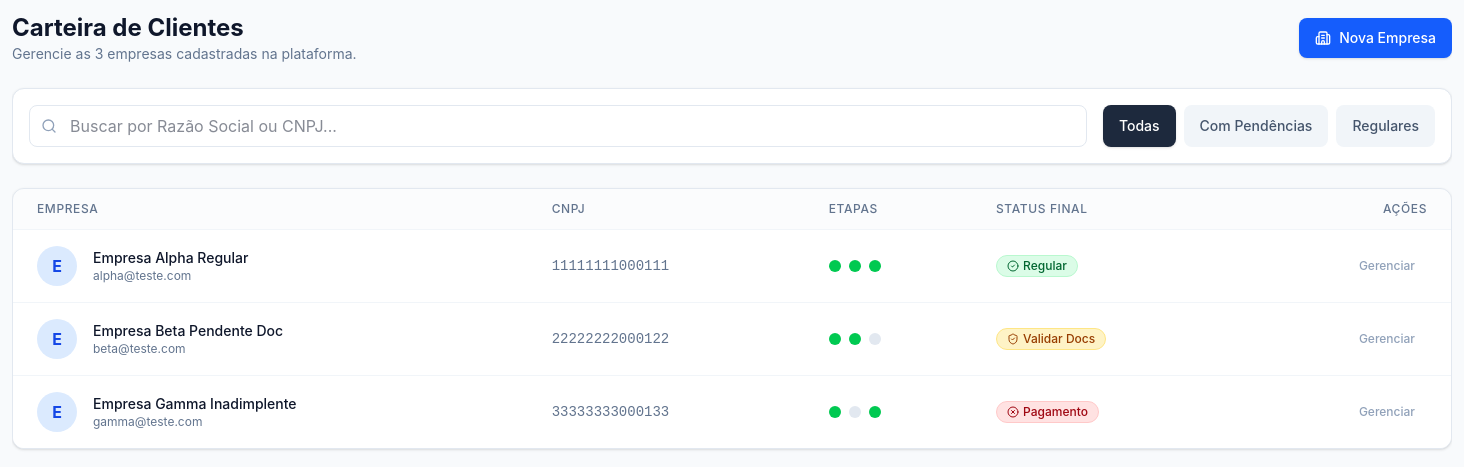
Test case: AdminCompaniesPage Integration › deve filtrar as empresas pelos botões de status (Pendentes / Regulares)
Expected: the text "Empresa Alpha Regular" is shown, [93,248,248,268]
Note: Clica em "Com Pendências"
Step 1. Click the button "Com Pendências" → (1256, 126), box [1184,105,1328,147]
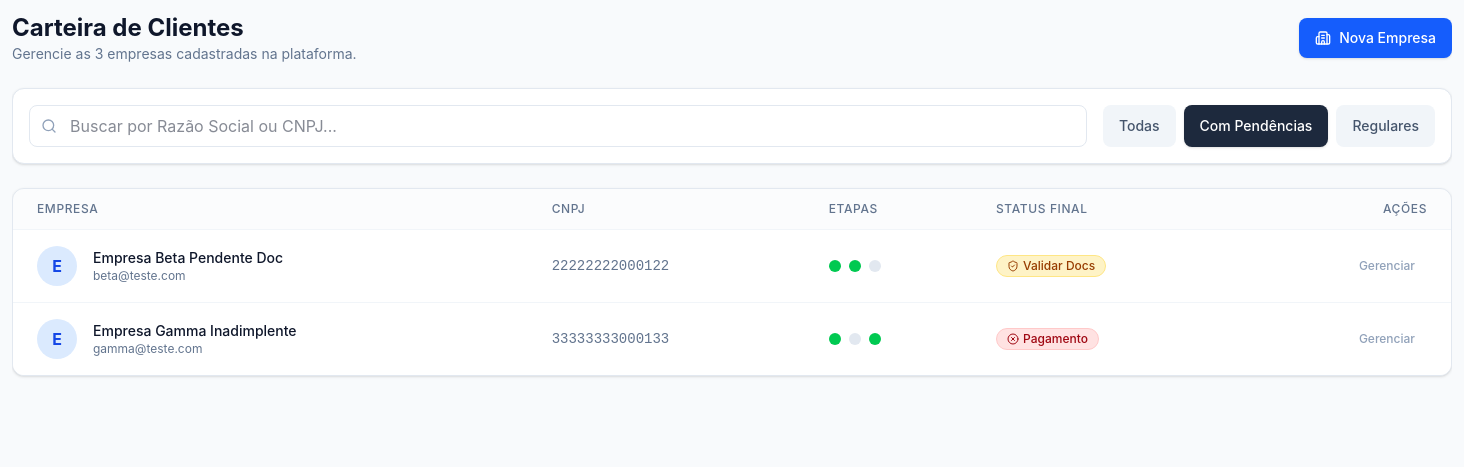
Expected: the text "Empresa Beta Pendente Doc" is shown, [93,248,283,268]
Now the text "Empresa Alpha Regular" is gone
Note: Clica em "Regulares"
Step 2. Click the button "Regulares" → (1386, 126), box [1336,105,1435,147]
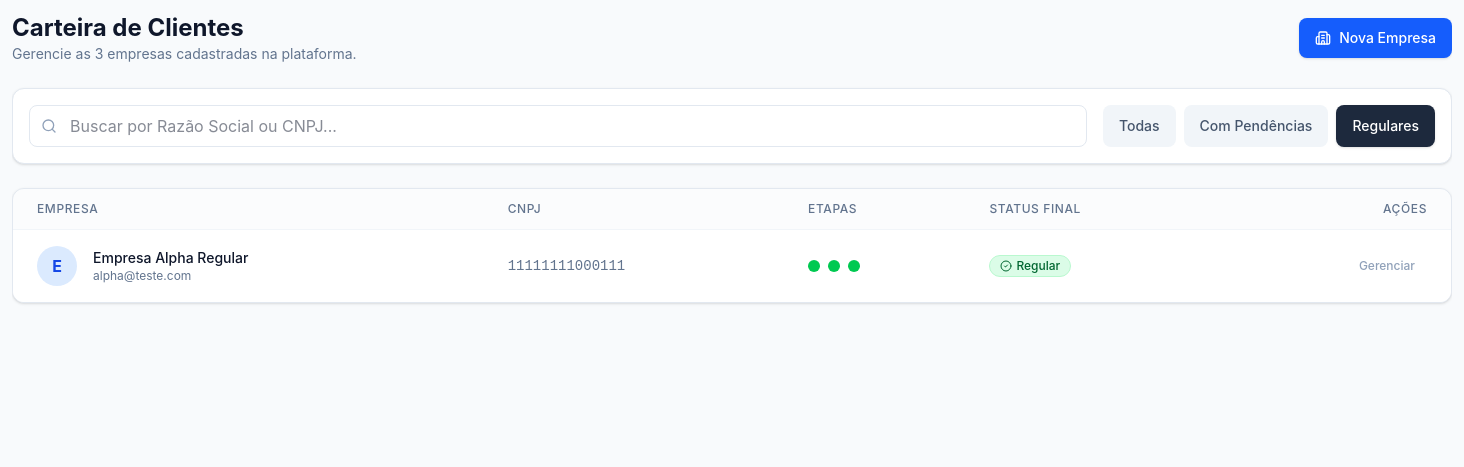
Now the text "Empresa Alpha Regular" is shown, box [93,248,248,268]
Now the text "Empresa Beta Pendente Doc" is gone
